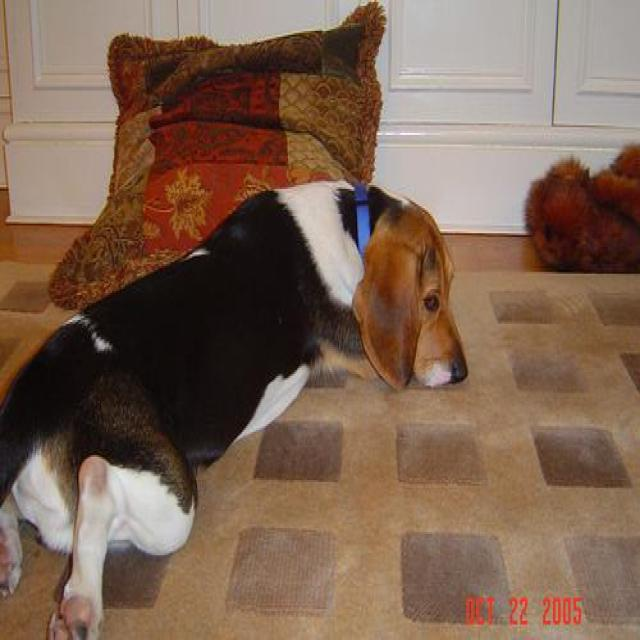beagle: (0, 181, 470, 638)
